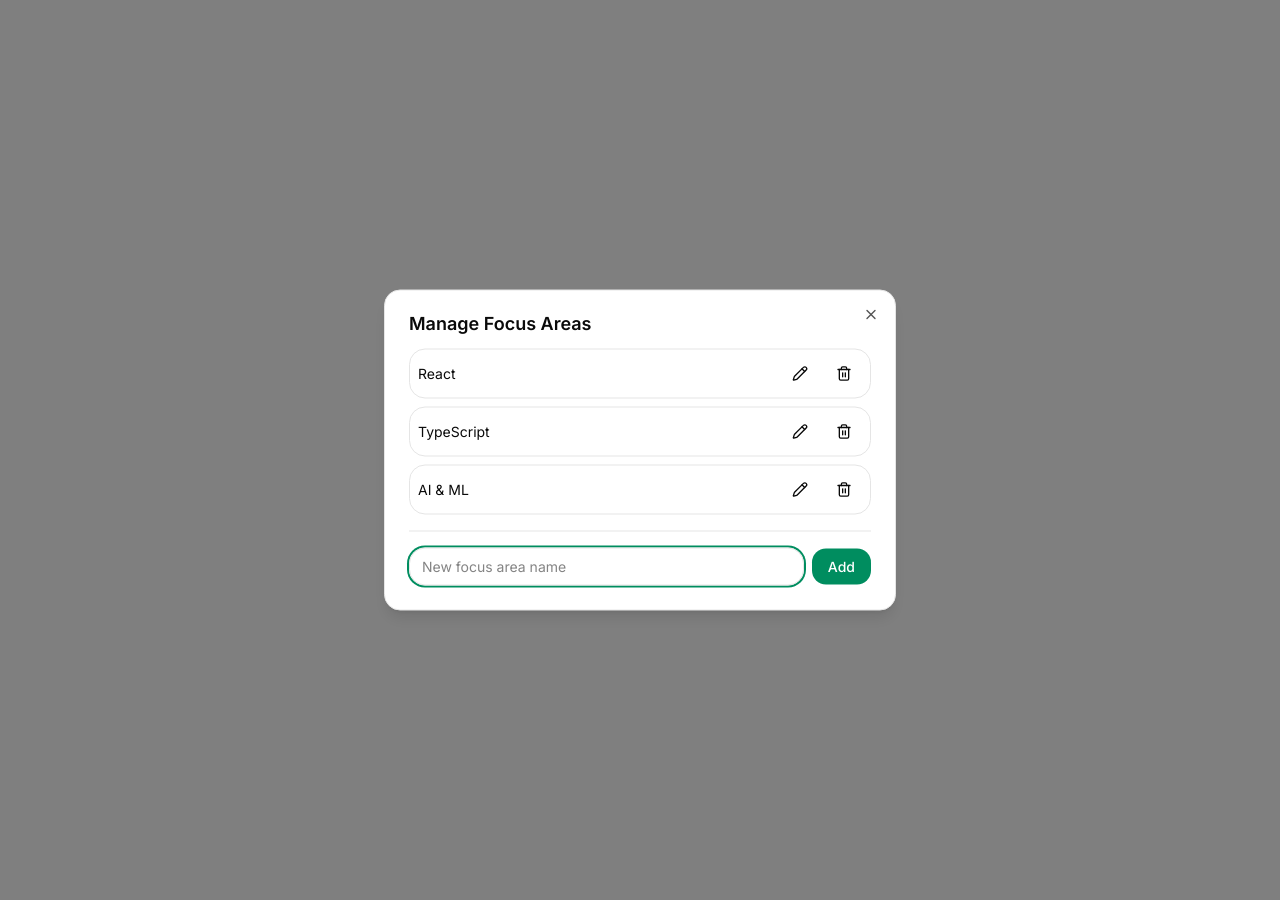
Test case: ManageFocusAreasModal › cancels edit mode when cancel button is clicked
This screenshot has width=1280, height=900.
Check: the text "React" is shown, box x1=418 y1=364 x2=456 y2=382
Click the button named "edit" in the row of "React". click: coordinates (800, 374)
box: x1=782 y1=358 x2=818 y2=390
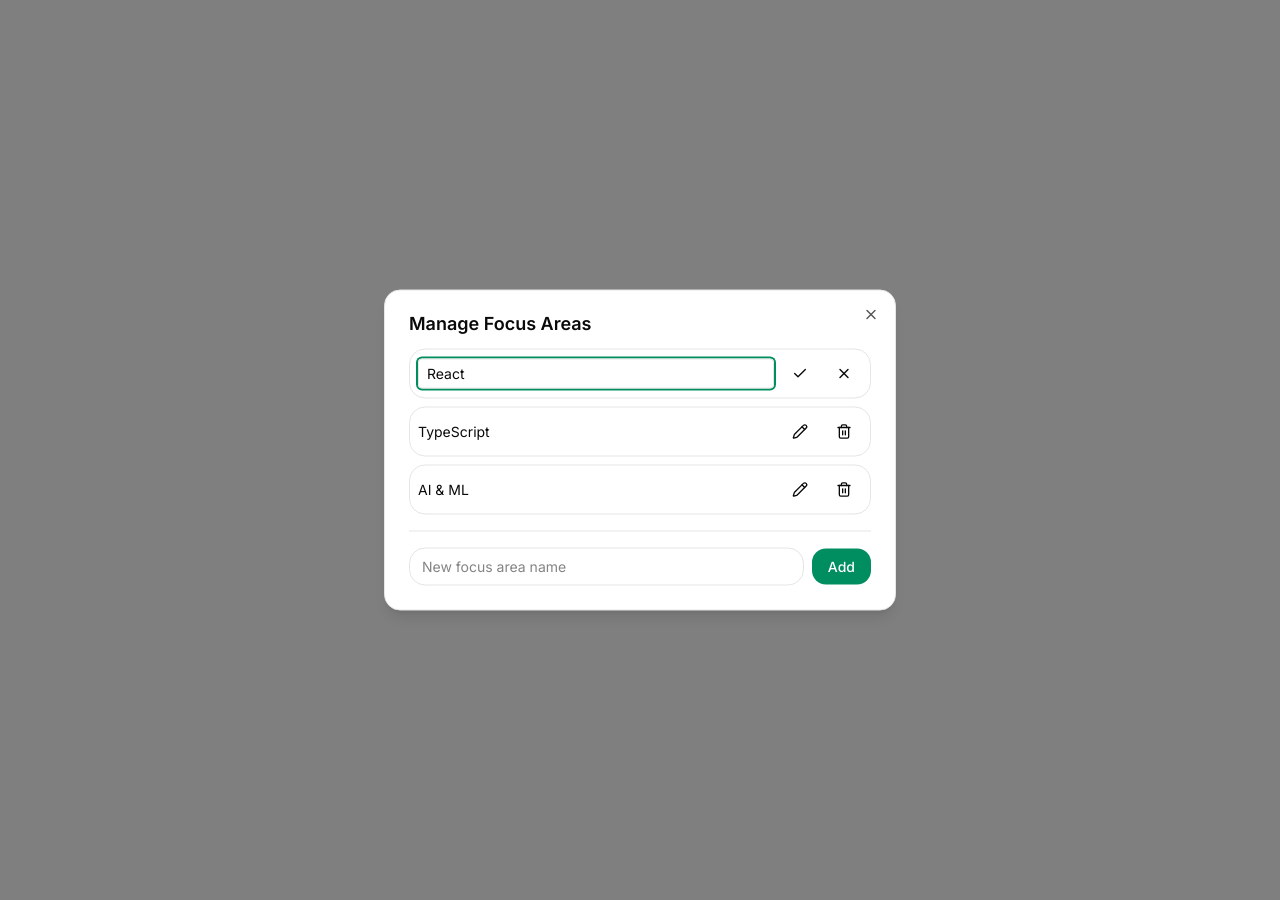
Check: the field showing "React" is shown, box x1=418 y1=358 x2=774 y2=388
Click the button named "cancel". click: coordinates (844, 374)
box: x1=826 y1=358 x2=862 y2=390
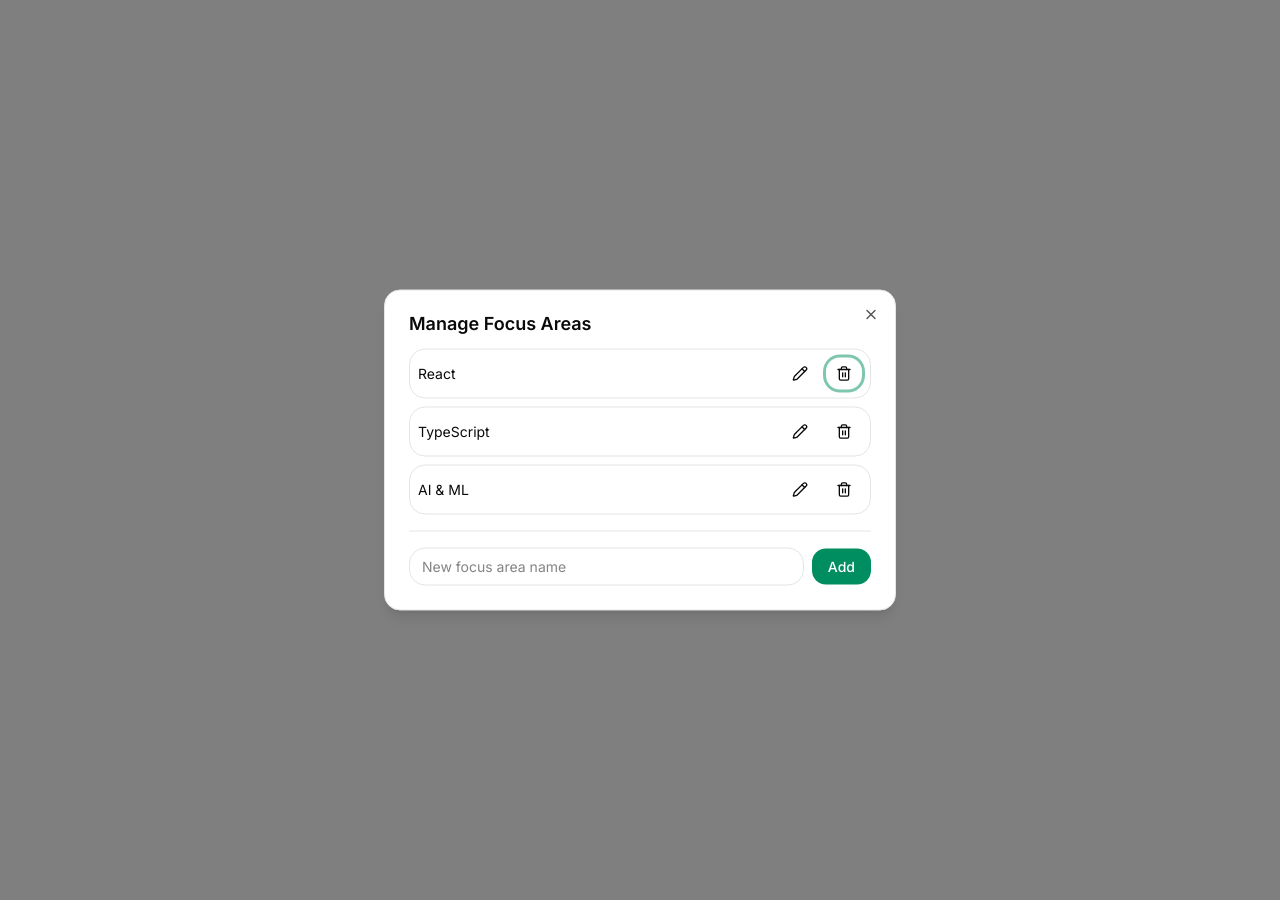
Check: the text "React" is shown, box x1=418 y1=364 x2=456 y2=382
